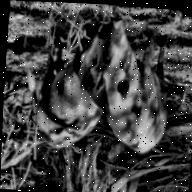boar: (21, 13, 126, 161), (92, 4, 180, 160)
